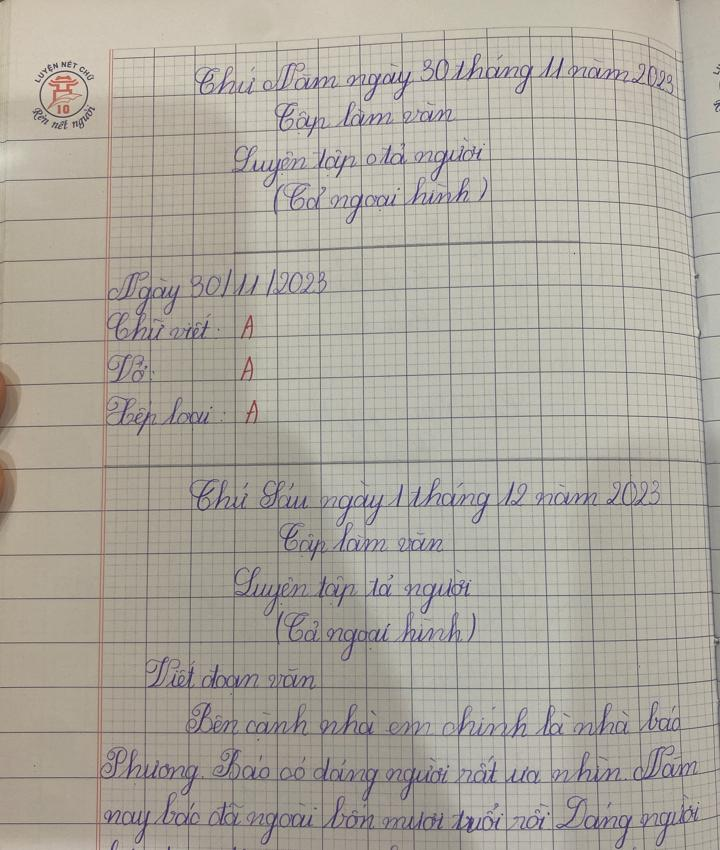text: (98, 741, 701, 805), (99, 789, 704, 850), (185, 475, 664, 530), (191, 54, 678, 105), (184, 695, 685, 742), (228, 135, 489, 191), (228, 564, 475, 621), (269, 174, 491, 228), (104, 266, 330, 319), (271, 609, 480, 665), (274, 520, 446, 569), (101, 391, 261, 443), (270, 98, 456, 141), (142, 654, 318, 699), (105, 308, 259, 345), (26, 103, 99, 132), (29, 55, 99, 85), (104, 350, 155, 386), (236, 354, 259, 385), (52, 99, 75, 119)
